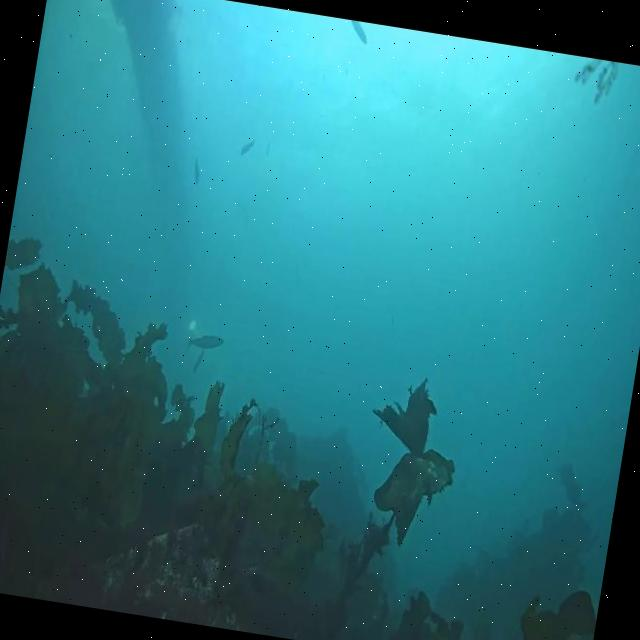fish: (188, 330, 226, 352), (347, 20, 370, 46), (193, 348, 205, 378), (190, 156, 202, 183), (240, 138, 255, 156)
